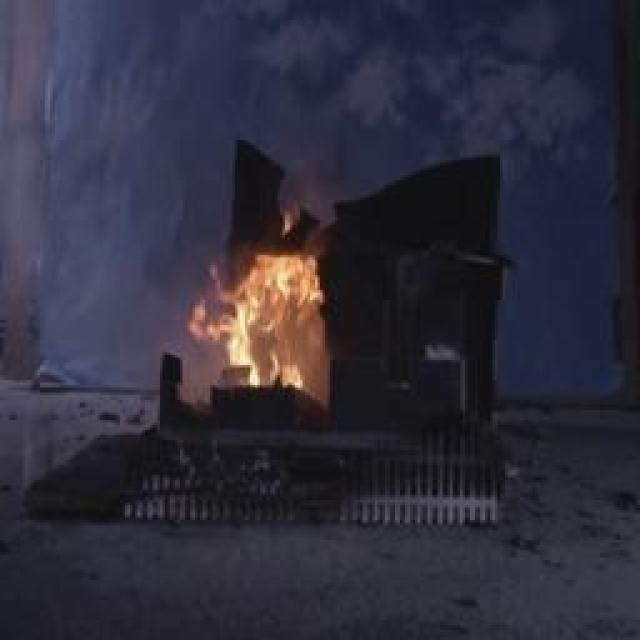fire: (182, 211, 326, 391)
